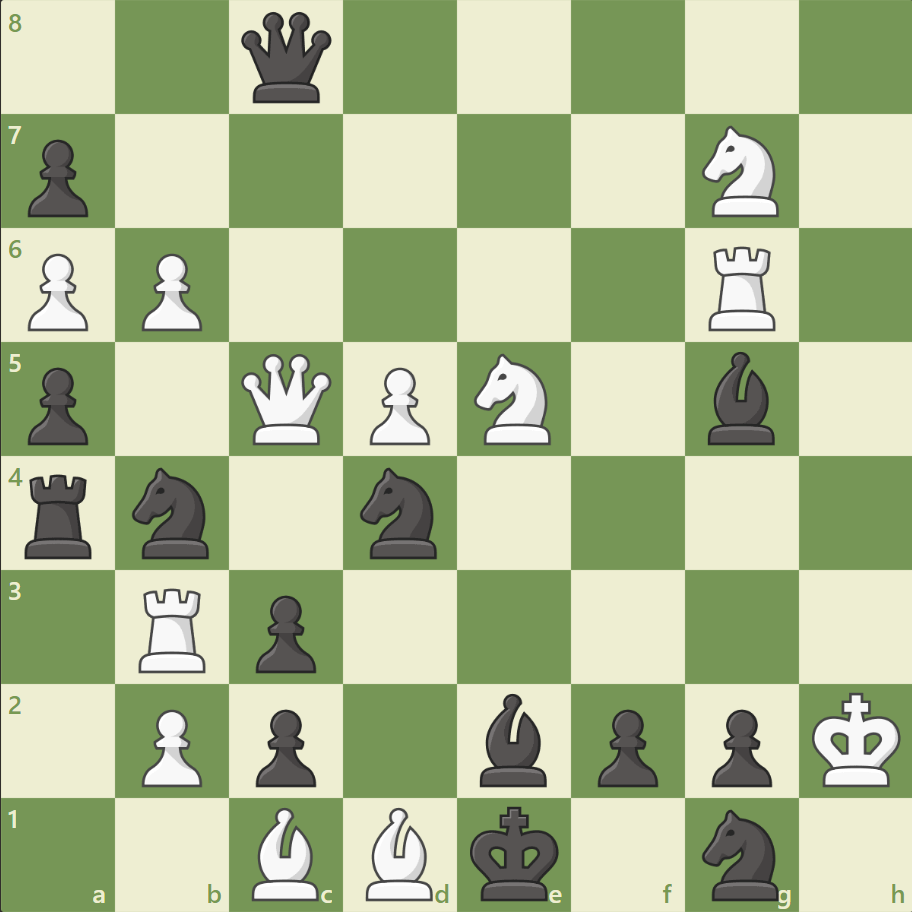B: (244, 801, 328, 904), (358, 801, 442, 904)
K: (806, 685, 906, 793)
N: (692, 121, 789, 223), (465, 348, 562, 450)
P: (20, 246, 95, 337), (133, 246, 208, 337), (133, 700, 208, 791), (361, 359, 435, 450)
Q: (237, 349, 336, 449)
R: (700, 239, 783, 336), (133, 579, 215, 676)
b: (471, 687, 555, 790), (698, 347, 782, 449)
k: (465, 798, 565, 906)
n: (124, 461, 222, 564), (351, 461, 449, 564), (692, 802, 789, 904)
p: (20, 132, 95, 223), (20, 359, 95, 450), (247, 586, 322, 677), (247, 700, 322, 791), (701, 700, 776, 791), (588, 700, 662, 791)
q: (237, 9, 336, 108)
r: (19, 466, 102, 563)
